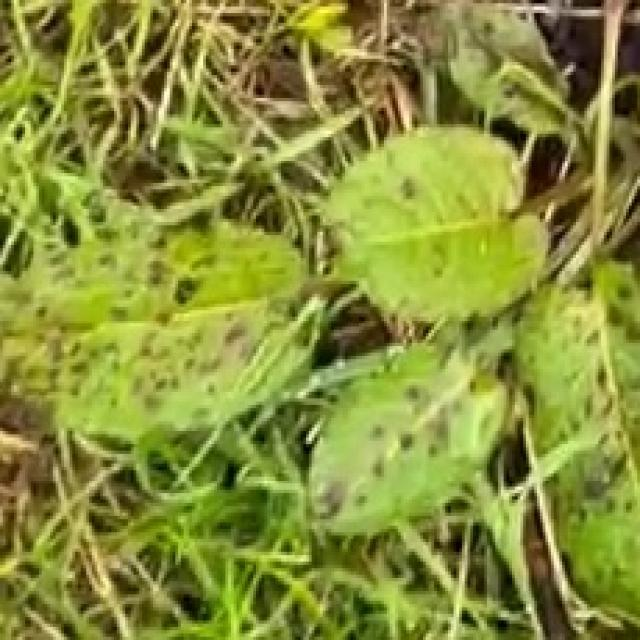organic waste: (20, 100, 640, 600)
